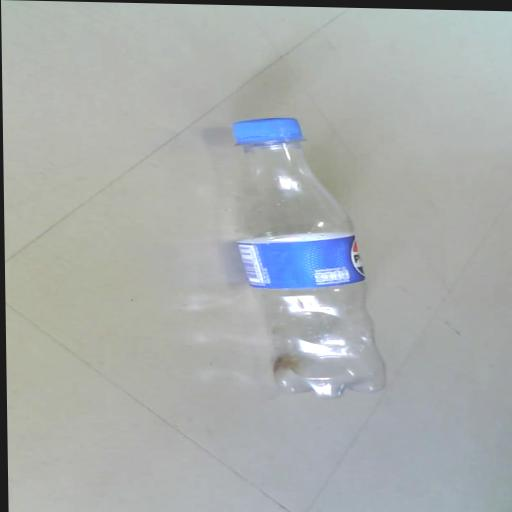bottle: (185, 91, 400, 414)
